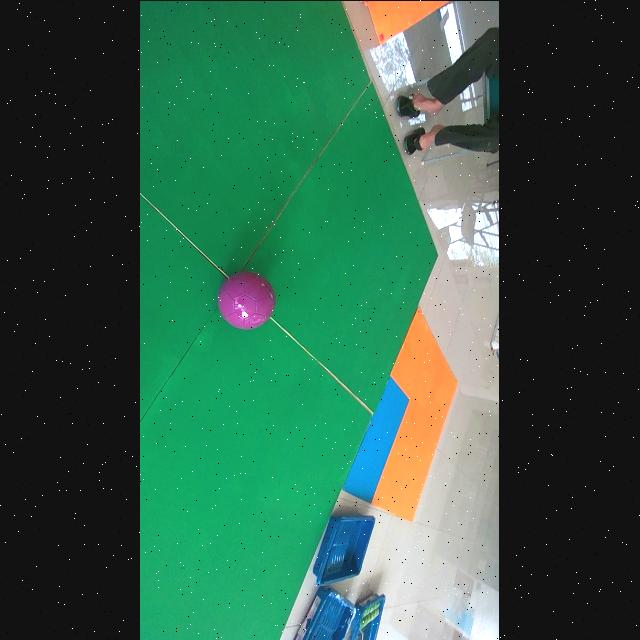P: (218, 271, 275, 329)
